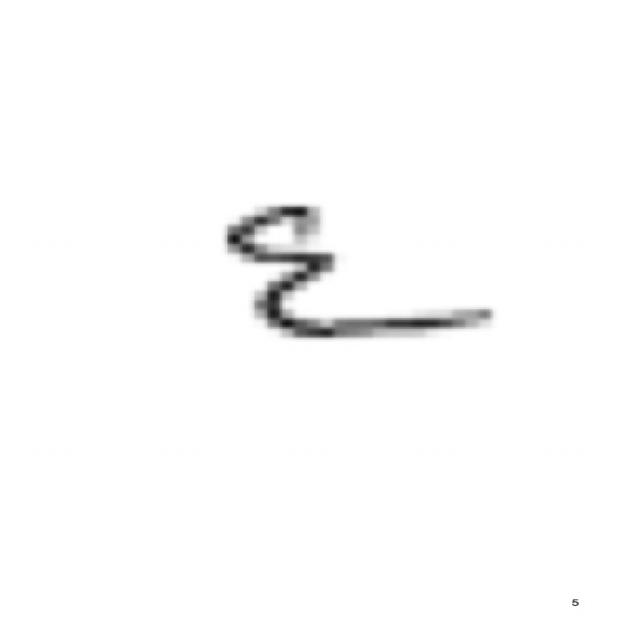4 -four-: (204, 188, 506, 349)
